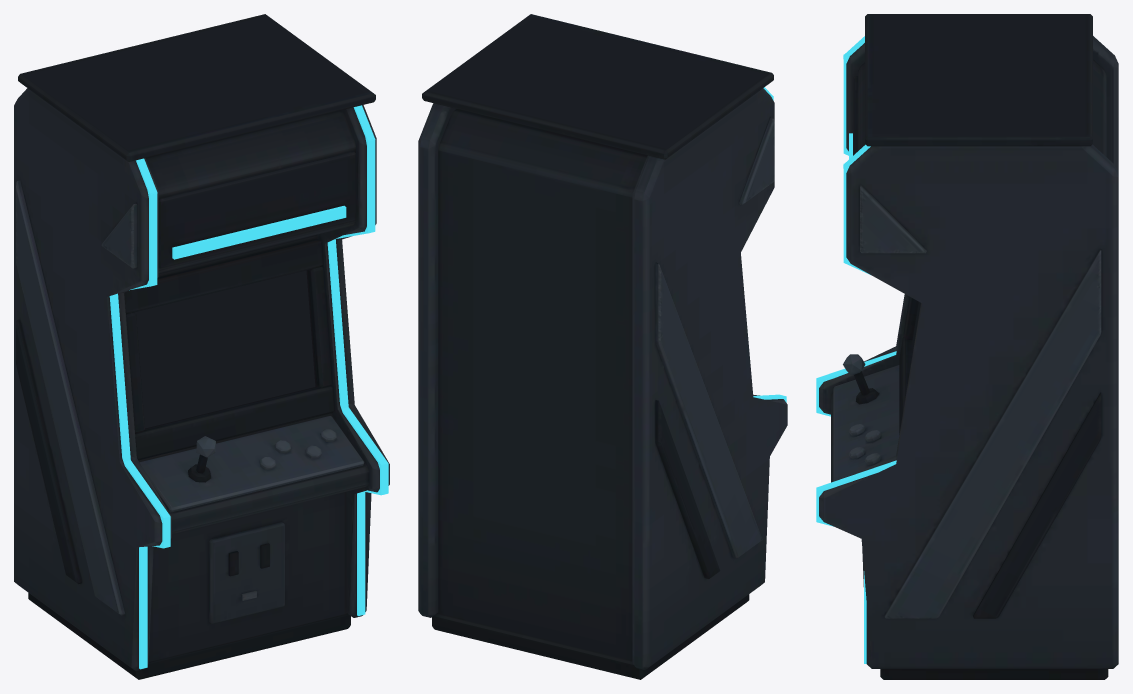
The model's file is arcade-cabinet.glb.
3 renders of one model, left to right at view 1: azimuth 30°, elevation 25°; view 2: azimuth 150°, elevation 25°; view 3: azimuth 270°, elevation 25°, orthographic. The views are drawn at different scales.
Parts seen in each view (by area): view 1: cabinet, screen, trim; view 2: cabinet; view 3: cabinet, trim.
Part boxes in pixels (x1,y1,x2,y2): cabinet: (14,14,389,679); screen: (134,270,315,428); trim: (109,105,388,669); cabinet: (418,14,787,679); cabinet: (819,14,1118,679); trim: (816,36,896,663).
Bounding box in the file's own units: 1.74 × 3.58 × 1.78.
3 materials, 1 textured.
